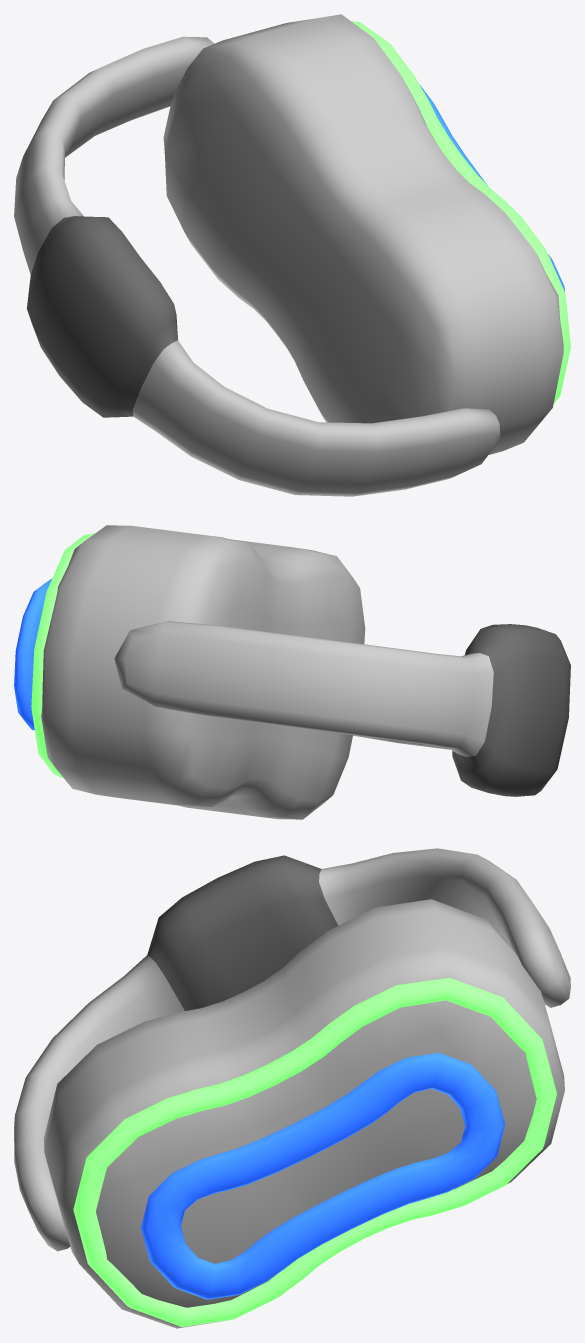
File: Cat_VR.glb
3 views of the same model, one above another, from view 1: azimuth 30°, elevation 25°; view 2: azimuth 150°, elevation 25°; view 3: azimuth 270°, elevation 25° (orthographic). The views are drawn at different scales.
Visible parts, largest first — view 1: VRBody_Object; view 2: VRBody_Object; view 3: VRBody_Object.
Boxes of the visible parts, bbox=[...] form: VRBody_Object: bbox=[14, 14, 570, 496]; VRBody_Object: bbox=[14, 525, 570, 819]; VRBody_Object: bbox=[14, 848, 570, 1328].
Size of the model in its own units: 0.8919 by 0.6612 by 0.9114.
